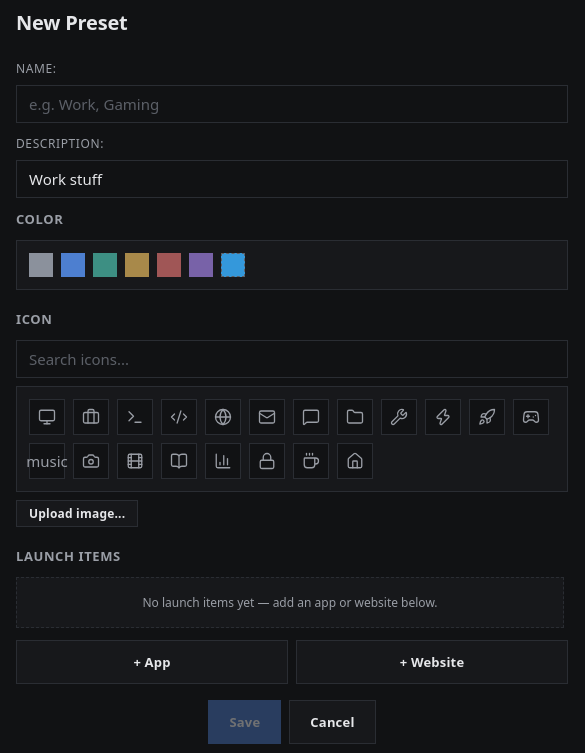
Scenario: EditPresetView › disables Save when the name is empty
The image size is (585, 753).
expect the button "Save" is disabled: met, box [208,700,281,744]
Type "X" into the field with placeholder "e.g. Work, Gaming" at point(292, 104), box [16,85,568,123]
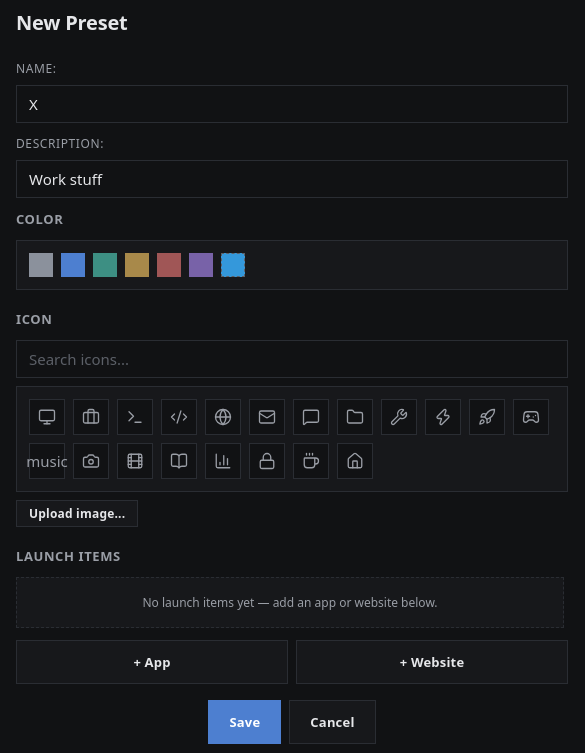
expect the button "Save" is enabled: met, box [208,700,281,744]
